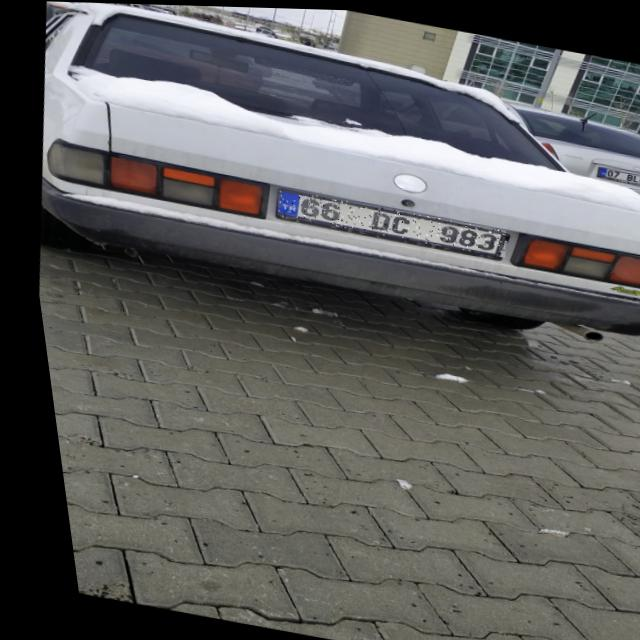license_plate: (269, 187, 506, 255), (493, 279, 494, 281)
